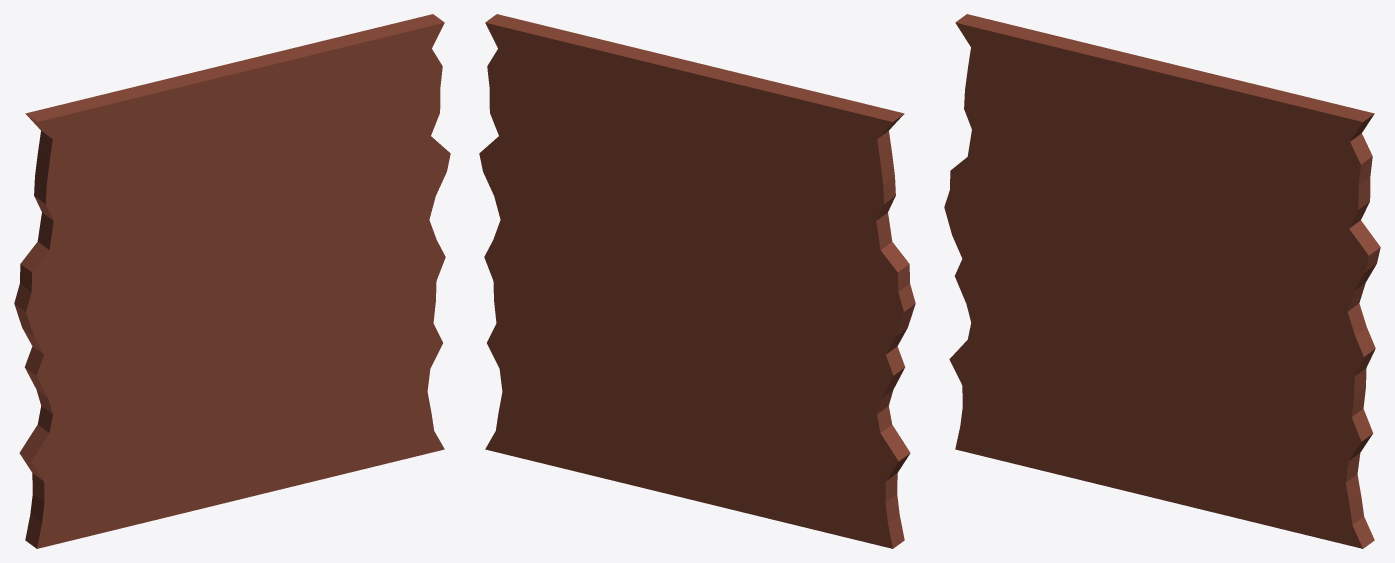
File: tile10.001.glb
3 renders of one model, left to right at view 1: azimuth 30°, elevation 25°; view 2: azimuth 150°, elevation 25°; view 3: azimuth 330°, elevation 25°, orthographic.
Parts seen in each view (by area): view 1: 10.001; view 2: 10.001; view 3: 10.001.
Boxes of the visible parts, <box> form: 10.001: <box>14,14,450,548</box>; 10.001: <box>479,14,915,548</box>; 10.001: <box>944,14,1380,548</box>.
Size of the model in its own units: 2.08 by 2 by 0.1.
Materials: 1 (1 with a texture image).
